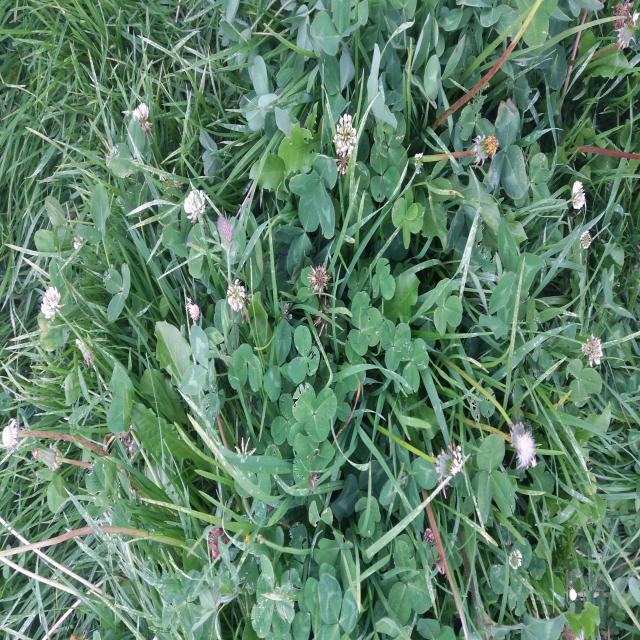Four Leaf Clover: (391, 185, 423, 249)
